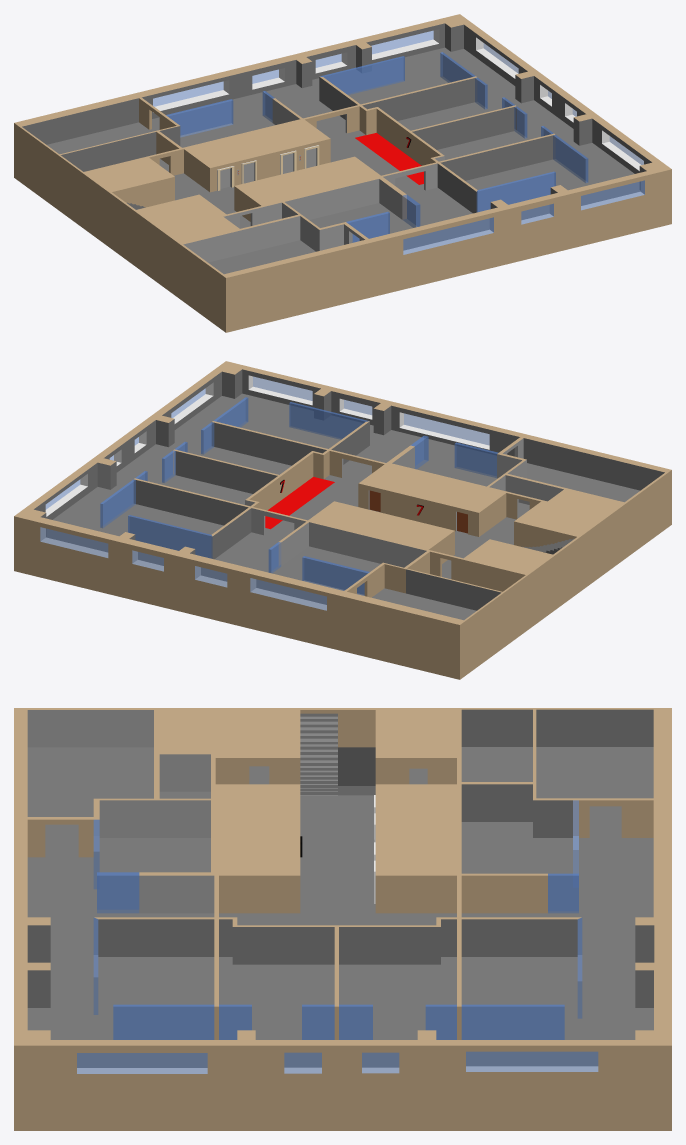
Rendered from 7F-coloredNhan.gltf.
3 renders of one model, top to bottom at view 1: azimuth 30°, elevation 25°; view 2: azimuth 150°, elevation 25°; view 3: azimuth 270°, elevation 25°, orthographic. The views are drawn at different scales.
Visible parts, largest first — view 1: root; view 2: root; view 3: root.
Boxes of the visible parts, <box> form: root: <box>14,14,671,332</box>; root: <box>14,361,671,679</box>; root: <box>14,708,671,1130</box>.
Bounding box in the file's own units: 44.7 × 5.25 × 36.81.
